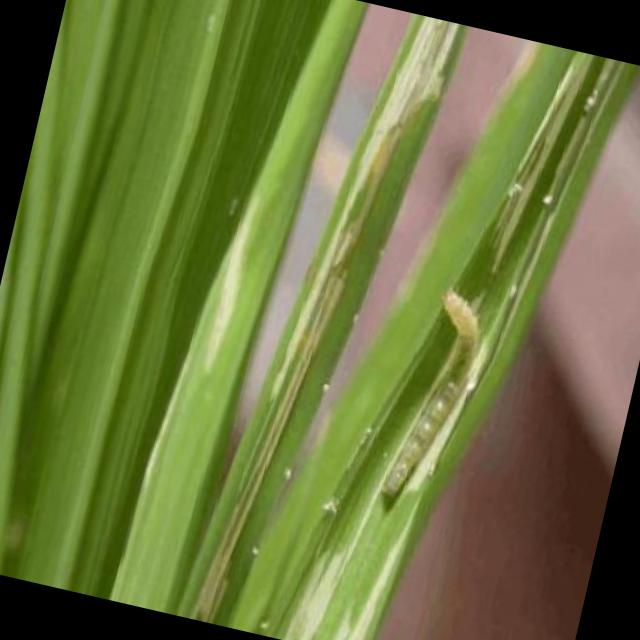leaf-folder: (330, 256, 538, 545)
